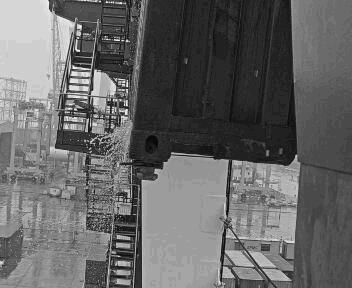twist_lock_1: (95, 254, 138, 285)
